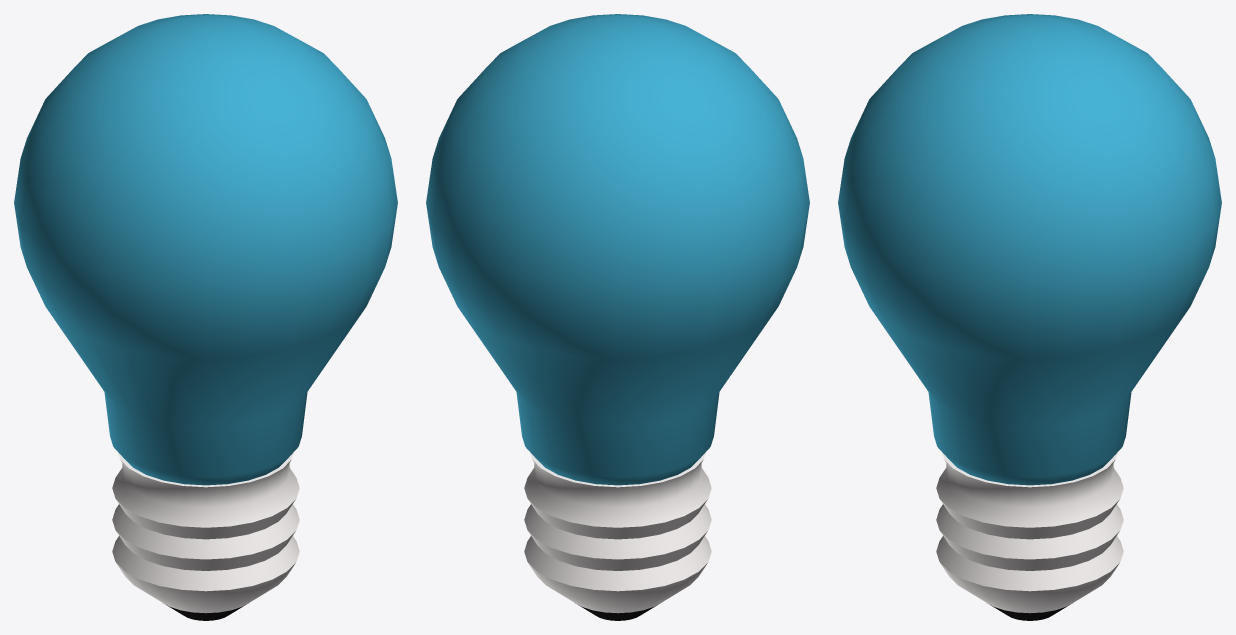
File: lightbulb.glb
3 renders of one model, left to right at view 1: azimuth 30°, elevation 25°; view 2: azimuth 150°, elevation 25°; view 3: azimuth 270°, elevation 25°, orthographic.
Visible parts, largest first — view 1: Object_7, Object_8, Object_2; view 2: Object_7, Object_8, Object_2; view 3: Object_7, Object_8, Object_2.
Boxes of the visible parts, box(x1,y1,x2,y2) form: Object_7: box(14, 14, 397, 485); Object_8: box(112, 460, 299, 613); Object_2: box(118, 452, 293, 487); Object_7: box(426, 14, 809, 485); Object_8: box(524, 460, 711, 613); Object_2: box(530, 452, 705, 487); Object_7: box(838, 14, 1221, 485); Object_8: box(936, 460, 1123, 613); Object_2: box(942, 452, 1117, 487).
Size of the model in its own units: 1.81 by 3 by 1.8.
